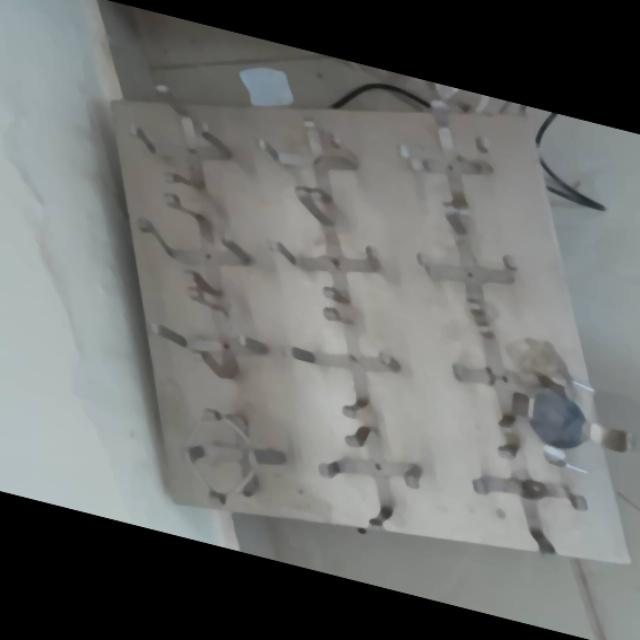Rotary Shaker: (112, 9, 616, 626)
